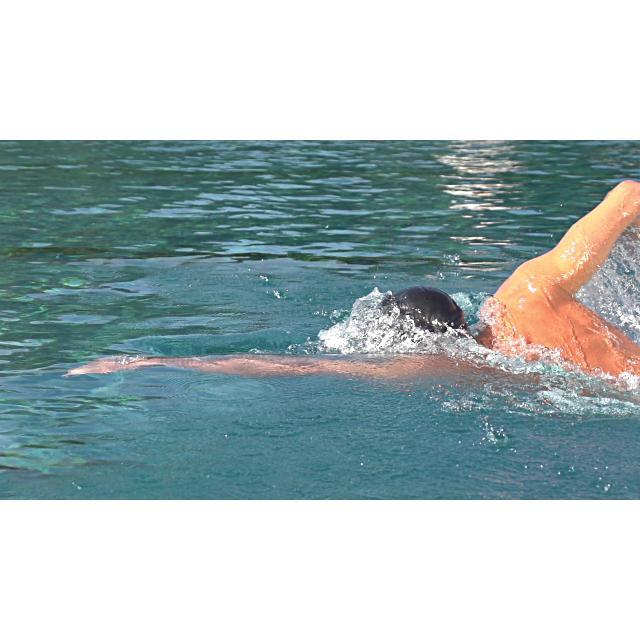human: (70, 178, 640, 409)
